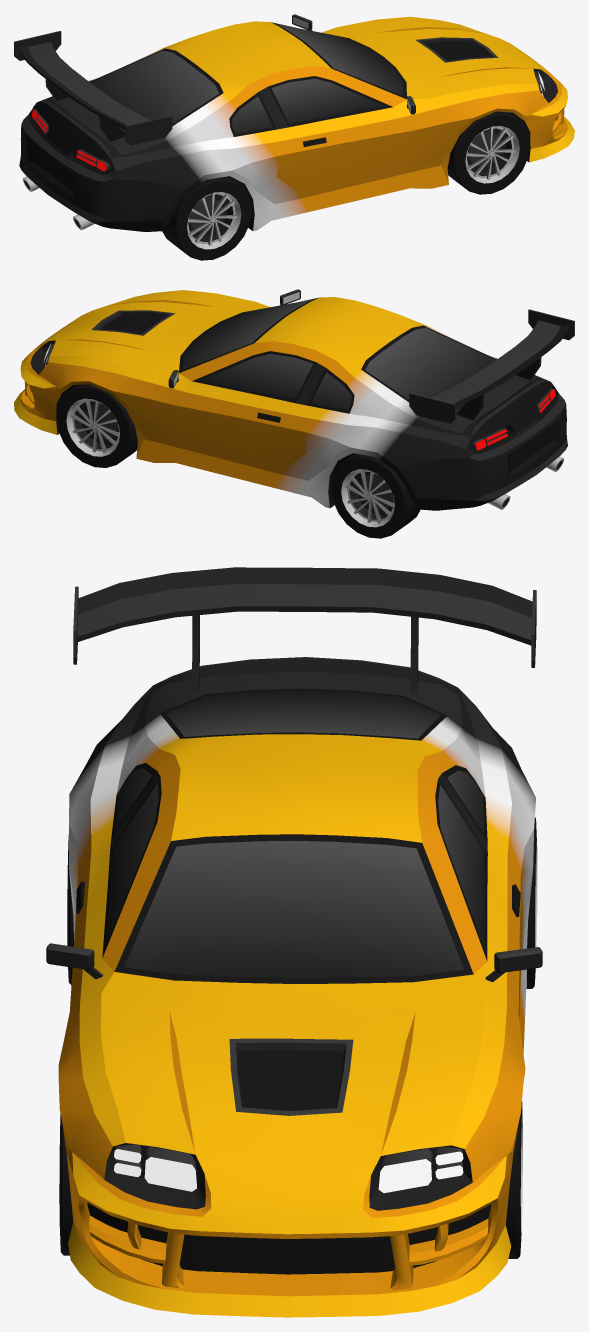
The model's file is RaceCar_093.glb.
The picture shows the model from 3 angles, top to bottom: view 1: azimuth 30°, elevation 25°; view 2: azimuth 150°, elevation 25°; view 3: azimuth 270°, elevation 25°; orthographic projection. The views are drawn at different scales.
Visible parts, largest first — view 1: RaceCar_093, wheel_3_RaceCar_093_Wheel_3R, wheel_1_RaceCar_093_Wheel_1R; view 2: RaceCar_093, wheel_2_RaceCar_093_Wheel_2L, wheel_0_RaceCar_093_Wheel_1L; view 3: RaceCar_093, wheel_0_RaceCar_093_Wheel_1L, wheel_1_RaceCar_093_Wheel_1R, wheel_2_RaceCar_093_Wheel_2L.
Boxes of the visible parts, left/top/right/bottom form: RaceCar_093: left=14, top=14, right=574, bottom=231; wheel_3_RaceCar_093_Wheel_3R: left=162, top=176, right=251, bottom=260; wheel_1_RaceCar_093_Wheel_1R: left=447, top=111, right=529, bottom=194; RaceCar_093: left=14, top=289, right=574, bottom=510; wheel_2_RaceCar_093_Wheel_2L: left=331, top=453, right=420, bottom=538; wheel_0_RaceCar_093_Wheel_1L: left=56, top=384, right=137, bottom=467; RaceCar_093: left=46, top=567, right=542, bottom=1317; wheel_0_RaceCar_093_Wheel_1L: left=505, top=1101, right=522, bottom=1258; wheel_1_RaceCar_093_Wheel_1R: left=59, top=1113, right=73, bottom=1255; wheel_2_RaceCar_093_Wheel_2L: left=526, top=817, right=537, bottom=988.
Size of the model in its own units: 4.44 by 1.34 by 1.92.
2 materials, 2 textured.
